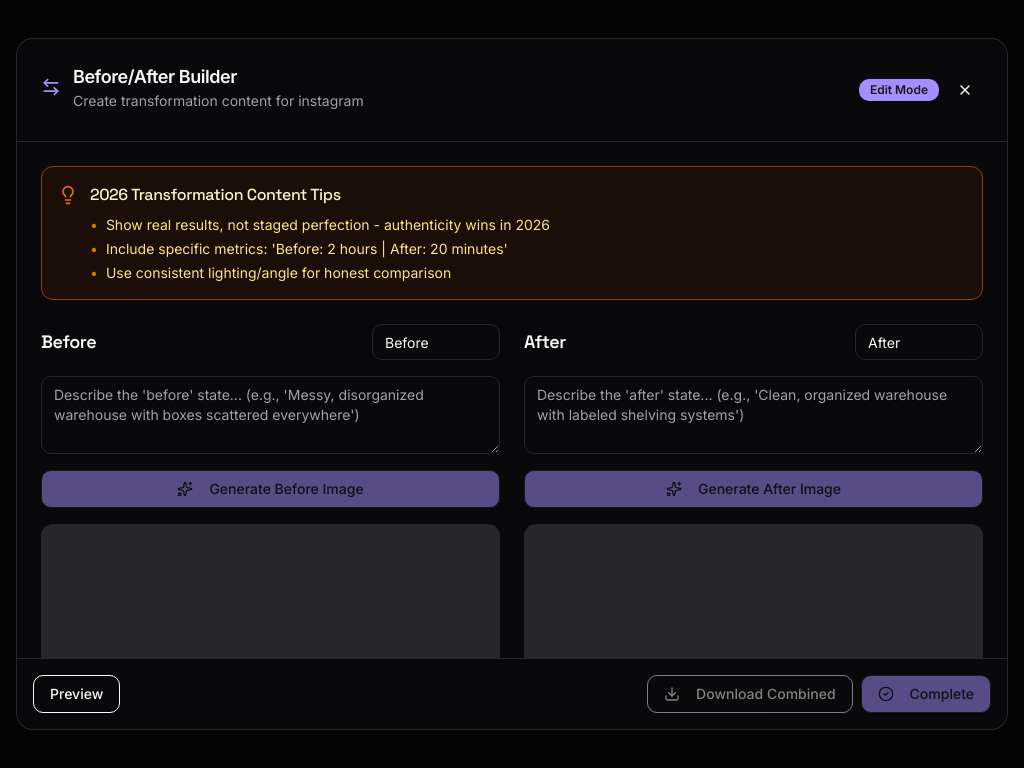
BeforeAfterBuilder - Panel Interactions › enables Generate Before Image when prompt has text
Replace the text in the text box with placeholder "Describe the 'before' state" with "Some description" at (270, 415), box [41,376,500,454]
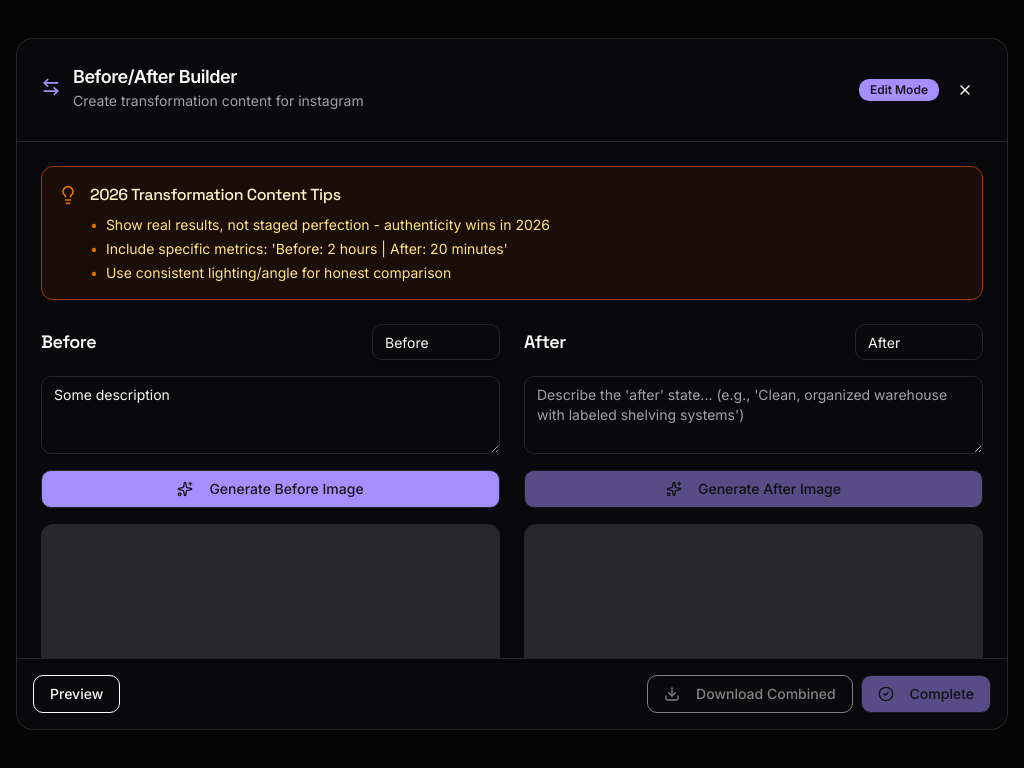
Now the button "Generate Before Image" is enabled, box [41,470,500,508]
